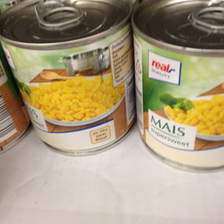corn: (1, 1, 132, 156), (131, 1, 224, 172)
